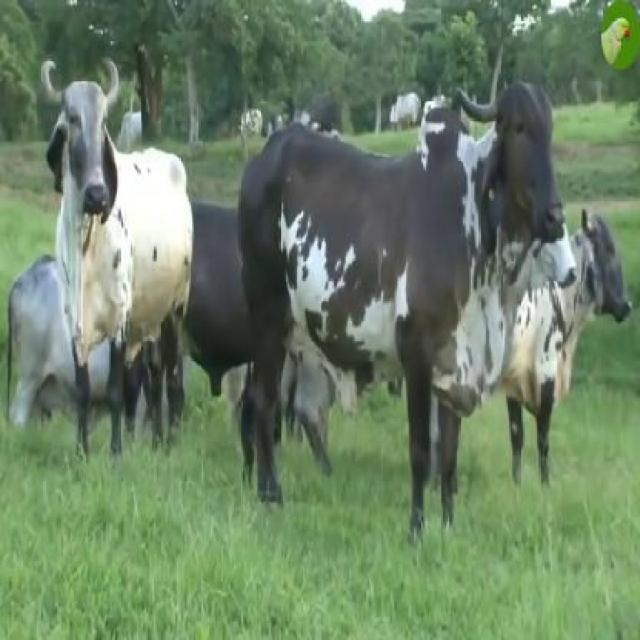Cow: (239, 80, 563, 518), (40, 60, 192, 457)
